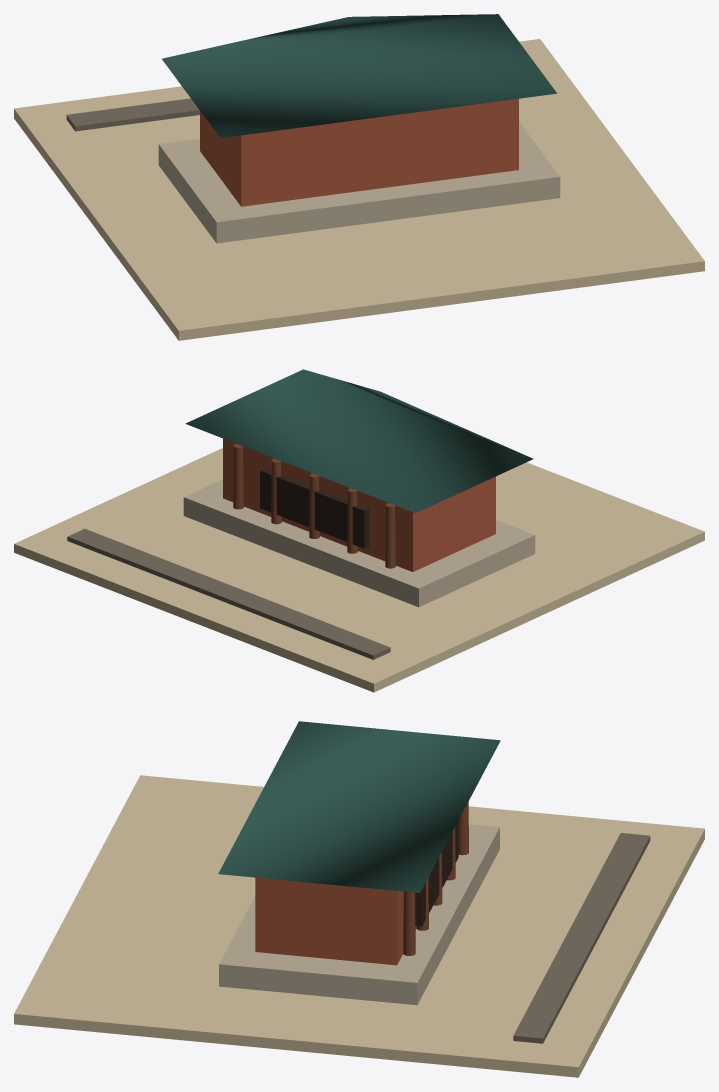
File: model-medium.glb
3 views of the same model, one above another, from view 1: azimuth 30°, elevation 25°; view 2: azimuth 150°, elevation 25°; view 3: azimuth 270°, elevation 25° (orthographic). The views are drawn at different scales.
Parts seen in each view (by area): view 1: context_site_plinth, sweeping_tiled_roof, main_hall_wall_volume, raised_ceremonial_platform, front_scale_strip; view 2: context_site_plinth, sweeping_tiled_roof, raised_ceremonial_platform, main_hall_wall_volume, front_scale_strip, central_shadow_door, front_column_5, front_column_1, front_column_4, front_column_3, front_column_2; view 3: context_site_plinth, sweeping_tiled_roof, raised_ceremonial_platform, main_hall_wall_volume, front_scale_strip, central_shadow_door, front_column_5.
Boxes of the visible parts, bbox=[...] form: context_site_plinth: bbox=[14, 39, 704, 340]; sweeping_tiled_roof: bbox=[162, 14, 556, 138]; main_hall_wall_volume: bbox=[200, 98, 518, 206]; raised_ceremonial_platform: bbox=[158, 121, 560, 243]; front_scale_strip: bbox=[66, 98, 199, 131]; context_site_plinth: bbox=[14, 448, 704, 692]; sweeping_tiled_roof: bbox=[185, 369, 533, 513]; raised_ceremonial_platform: bbox=[183, 479, 535, 607]; main_hall_wall_volume: bbox=[223, 438, 495, 571]; front_scale_strip: bbox=[67, 528, 390, 659]; central_shadow_door: bbox=[260, 468, 369, 548]; front_column_5: bbox=[233, 444, 243, 509]; front_column_1: bbox=[385, 503, 395, 568]; front_column_4: bbox=[271, 458, 281, 524]; front_column_3: bbox=[309, 473, 319, 538]; front_column_2: bbox=[347, 488, 357, 553]; context_site_plinth: bbox=[14, 775, 704, 1077]; sweeping_tiled_roof: bbox=[218, 721, 500, 892]; raised_ceremonial_platform: bbox=[219, 824, 499, 1005]; main_hall_wall_volume: bbox=[255, 877, 416, 965]; front_scale_strip: bbox=[513, 833, 650, 1043]; central_shadow_door: bbox=[415, 820, 458, 926]; front_column_5: bbox=[403, 891, 415, 955].
Bounding box in the file's own units: 9.55 × 2.62 × 9.55.
